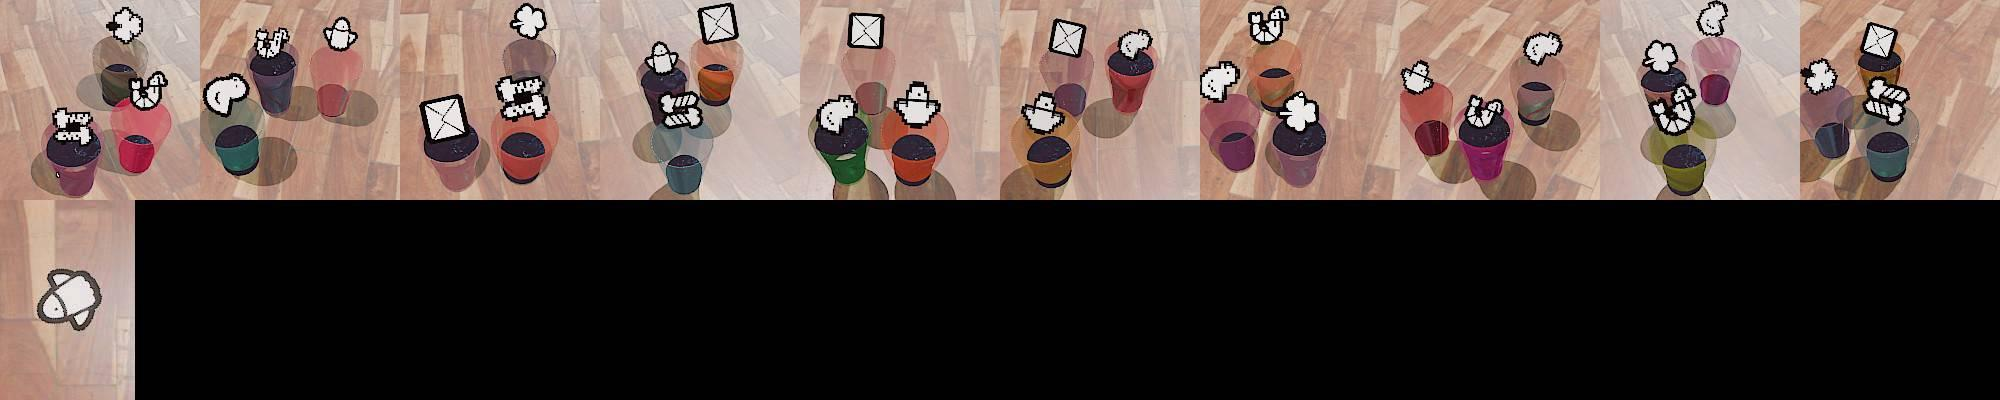icon: (36, 268, 102, 331), (417, 93, 472, 146), (495, 73, 550, 120), (1647, 84, 1696, 135), (893, 80, 943, 127), (1862, 76, 1909, 125), (1020, 89, 1069, 134), (202, 73, 249, 116), (1276, 90, 1321, 134), (658, 90, 707, 129), (129, 69, 172, 111), (1246, 5, 1290, 46), (698, 3, 739, 45), (50, 104, 94, 143), (1200, 60, 1240, 102), (818, 94, 860, 134), (1047, 18, 1085, 60), (1462, 92, 1504, 129), (106, 6, 144, 46), (847, 11, 885, 51), (1861, 22, 1899, 60), (510, 4, 548, 41), (1523, 31, 1562, 66), (1800, 59, 1839, 94), (253, 25, 291, 60), (323, 15, 358, 51), (1696, 0, 1730, 37), (1642, 39, 1679, 73), (1116, 28, 1153, 61), (1401, 60, 1434, 96), (645, 41, 681, 74)
